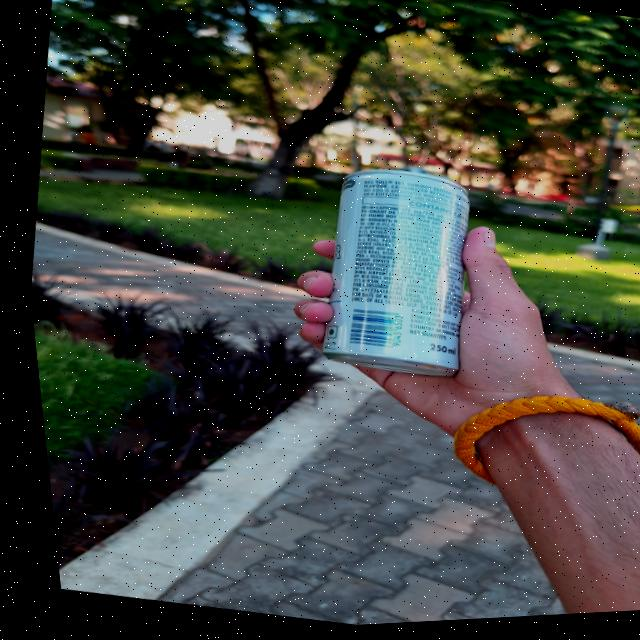Redbull Summer Edition: (285, 155, 497, 387)
